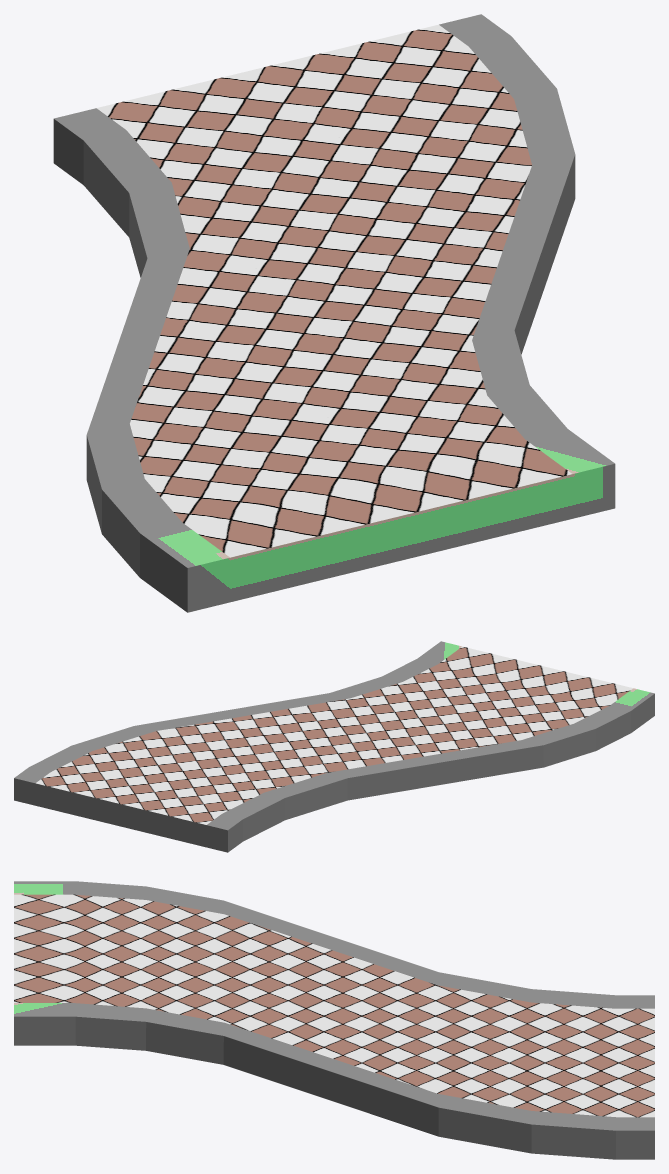
File: zigzagchunk2.fbx
3 renders of one model, top to bottom at view 1: azimuth 30°, elevation 25°; view 2: azimuth 150°, elevation 25°; view 3: azimuth 270°, elevation 25°, orthographic. The views are drawn at different scales.
Parts seen in each view (by area): view 1: zigzagchunk2; view 2: zigzagchunk2; view 3: zigzagchunk2.
Part boxes in pixels (bbox=[...]): zigzagchunk2: bbox=[53, 14, 615, 612]; zigzagchunk2: bbox=[14, 641, 654, 852]; zigzagchunk2: bbox=[14, 881, 654, 1159].
Bounding box in the file's own units: 117 × 127 × 6.37.
